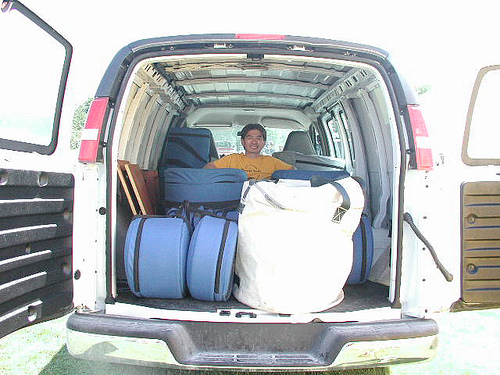without_mask: (240, 128, 267, 156)
